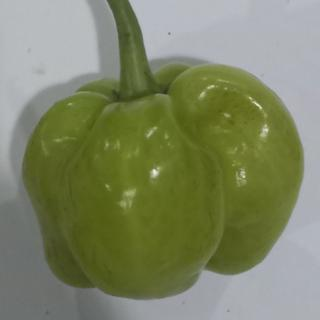Grade-B: (15, 49, 307, 301)
